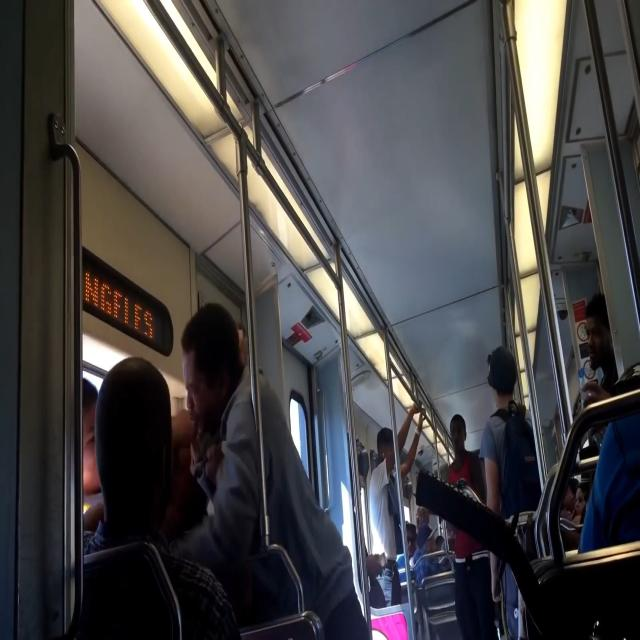fight: (85, 282, 356, 640)
